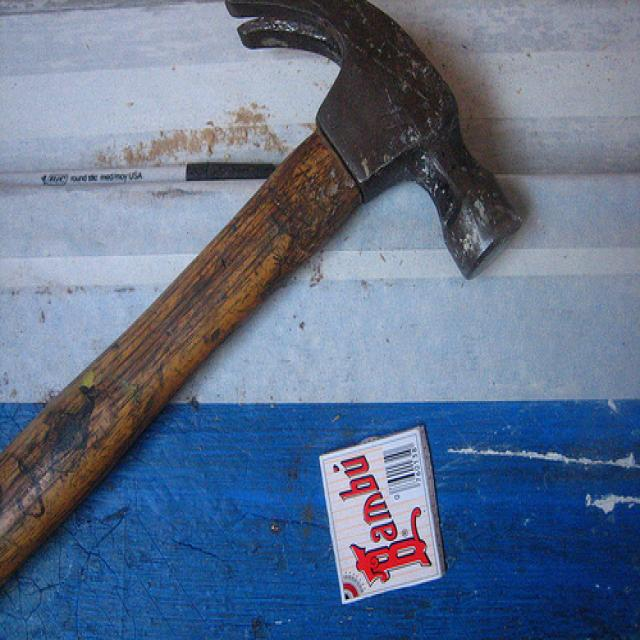hammer: (0, 0, 538, 478)
